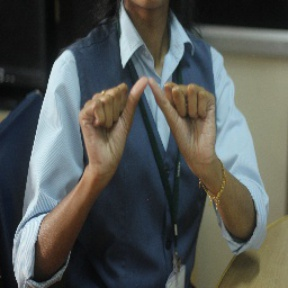A: (72, 66, 216, 154)
